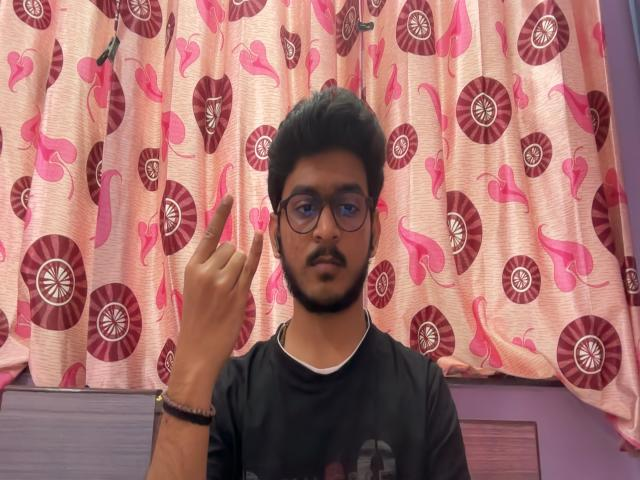I Love You: (172, 183, 264, 381)
